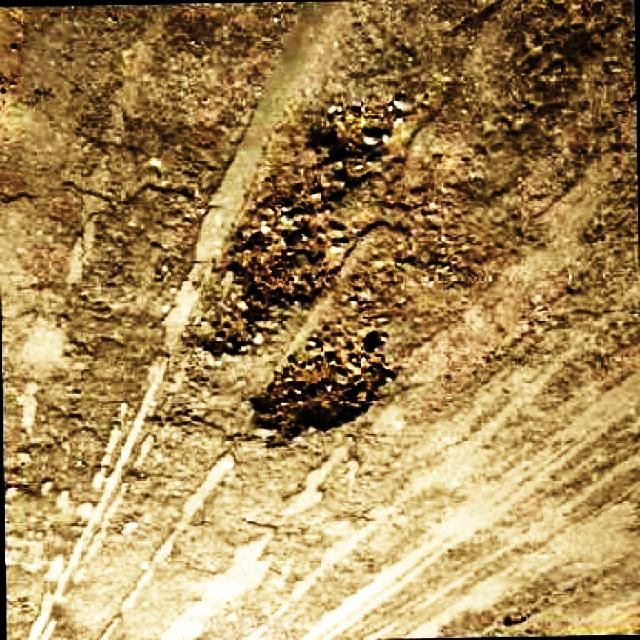pothole: (197, 118, 408, 362), (248, 325, 415, 446)
